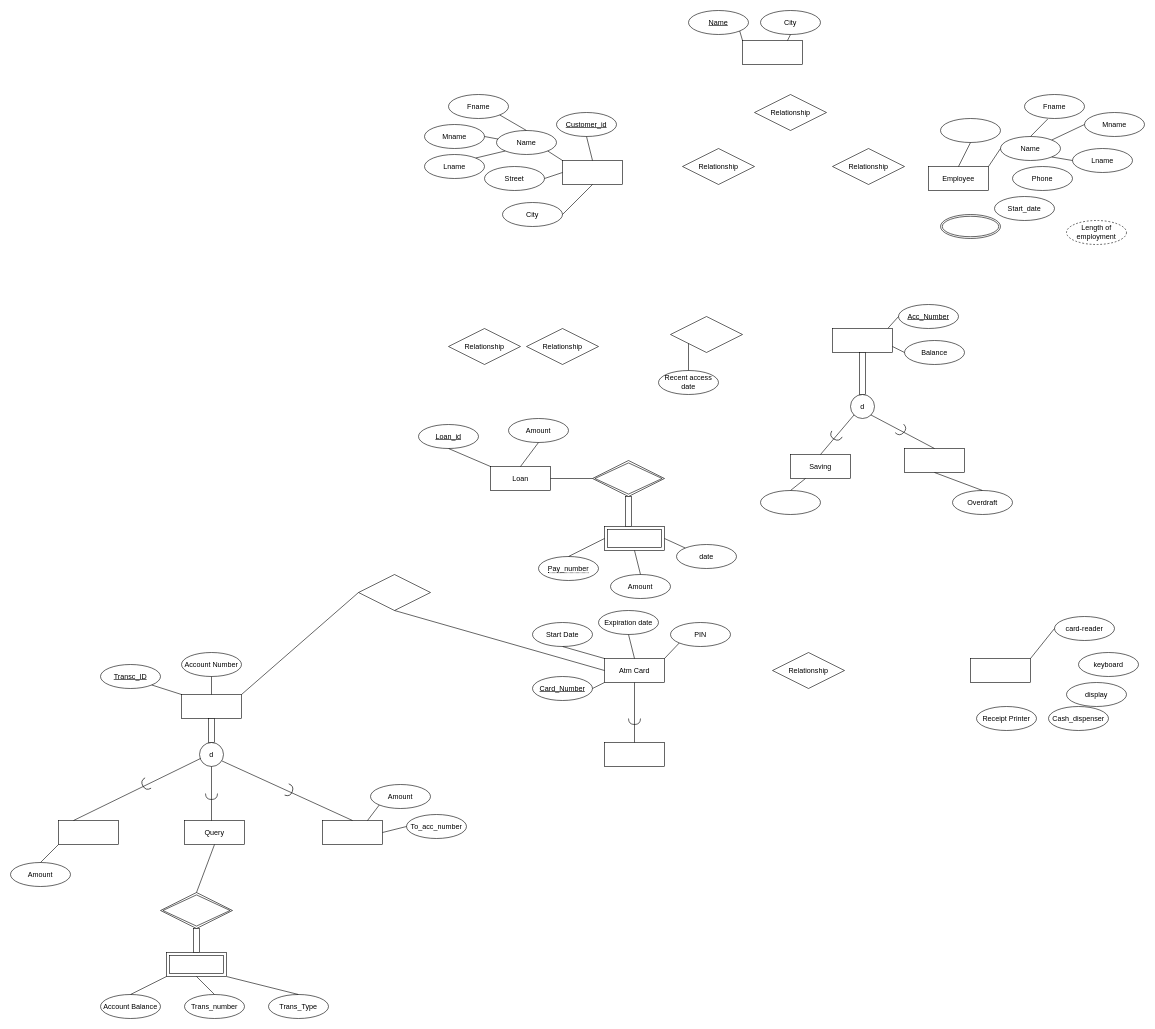
Image size: 1155x1029. Some labels were removed from this diagram. Here are the shapes that lost their labels. From the top down, the box of each, then its label:
(742, 40, 802, 64): Branch
(940, 118, 1000, 142): Employee_id
(562, 160, 622, 184): Customer
(940, 214, 1000, 238): Dependents
(670, 316, 742, 352): Acc_holder
(832, 328, 892, 352): Account
(592, 460, 664, 496): loan payement
(904, 448, 964, 472): Checking
(760, 490, 820, 514): Interest Rate
(604, 526, 664, 550): re-payment
(358, 574, 430, 610): Transaction Performed
(970, 658, 1030, 682): Atm
(181, 694, 242, 718): Transaction
(604, 742, 664, 766): Validated_card
(58, 820, 118, 844): Withdrawal
(322, 820, 382, 844): Transfer
(160, 892, 232, 928): Print receipt
(166, 952, 226, 976): Teceipt
